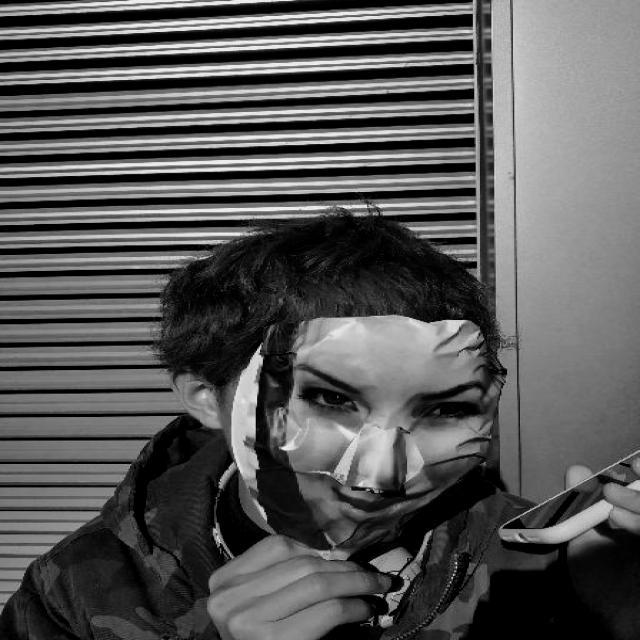fake: (290, 360, 493, 548)
